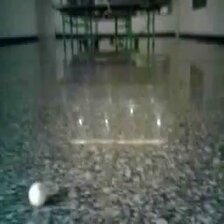w: (28, 182, 47, 206)
